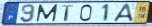0: (79, 3, 93, 22)
1: (100, 3, 111, 22)
9: (20, 4, 36, 24)
A: (112, 3, 135, 23)
M: (35, 4, 59, 22)
T: (60, 4, 75, 22)
